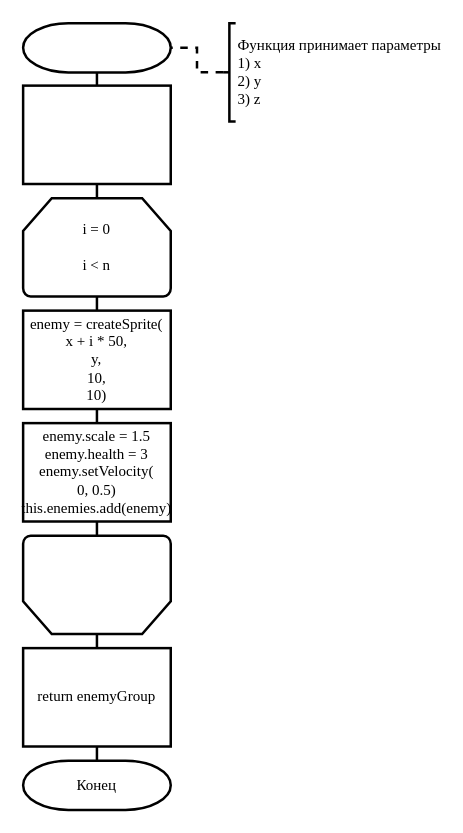
This 463x833 diagram has some shape labels left out. Each missing label, with the centre of its shape:
"enemyGroup = new Group()" belongs at point 96,134.
"GameState::create EnemyGroup(...)" belongs at point 96,47.
"i++" belongs at point 96,584.
